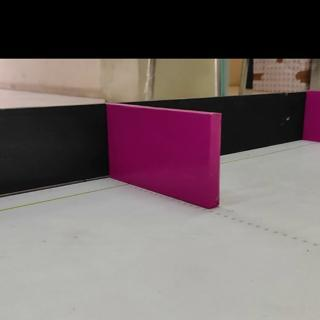xparking: (108, 114, 220, 194), (308, 91, 320, 139)
